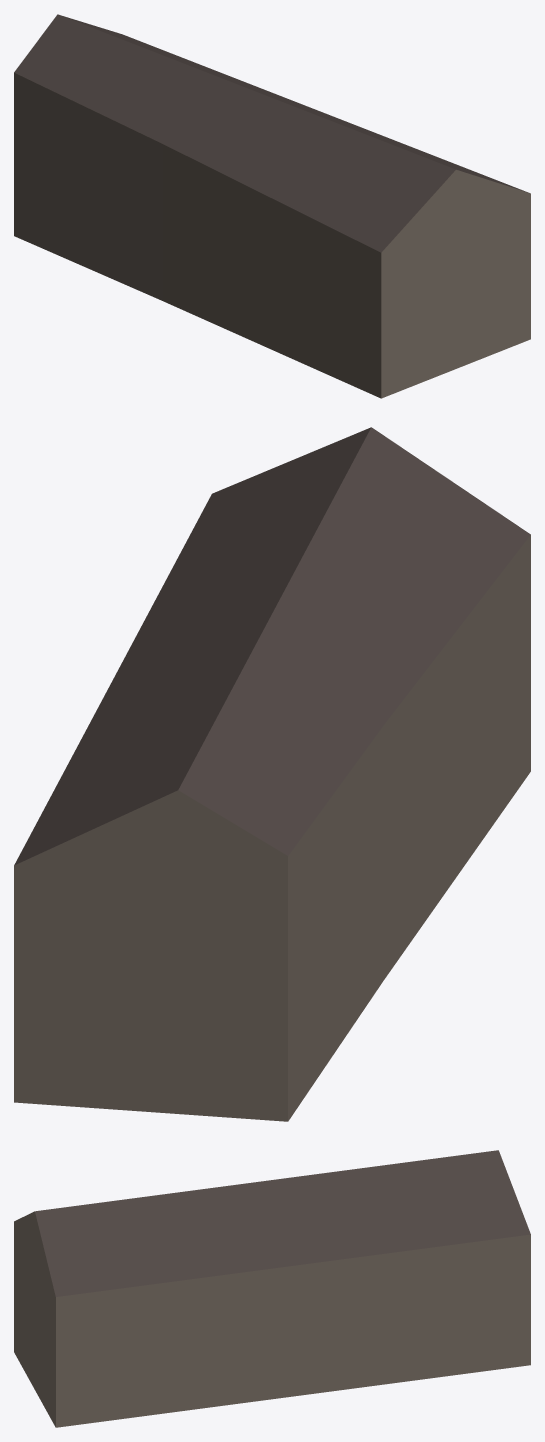
3 renders of one model, top to bottom at view 1: azimuth 30°, elevation 25°; view 2: azimuth 150°, elevation 25°; view 3: azimuth 270°, elevation 25°, orthographic. The views are drawn at different scales.
Parts seen in each view (by area): view 1: HP-w1512911283; view 2: HP-w1512911283; view 3: HP-w1512911283.
Boxes of the visible parts, bbox=[...] form: HP-w1512911283: bbox=[14, 14, 530, 398]; HP-w1512911283: bbox=[14, 427, 530, 1121]; HP-w1512911283: bbox=[14, 1150, 530, 1427].
Bounding box in the file's own units: 12.14 × 8.2 × 21.51.
